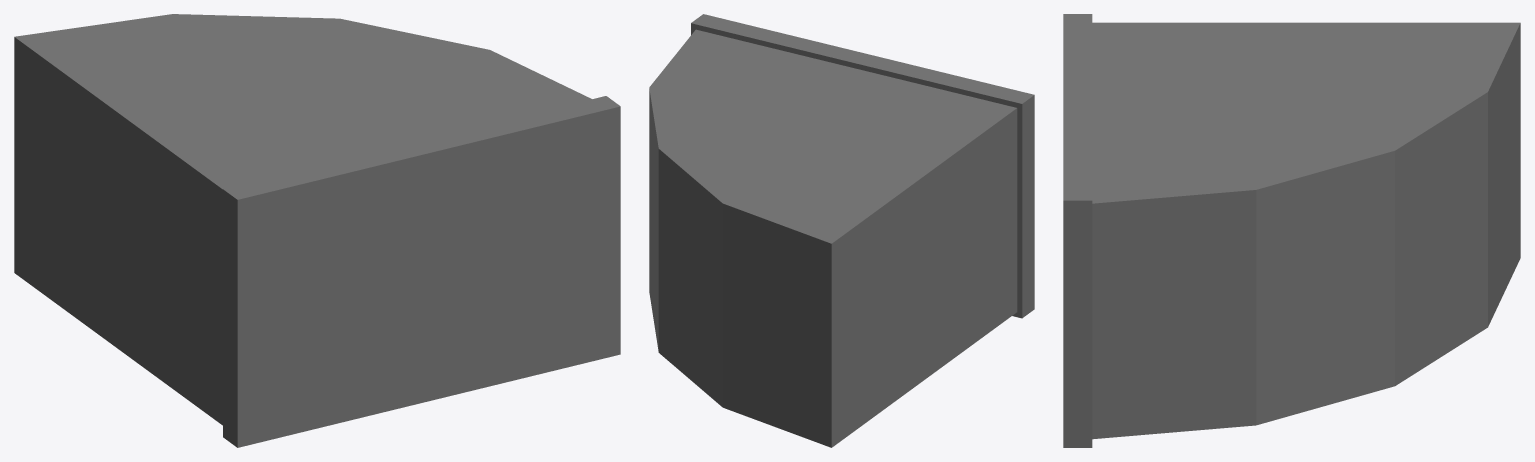
File: Duct_Left_Right.fbx
The picture shows the model from 3 angles, left to right: view 1: azimuth 30°, elevation 25°; view 2: azimuth 150°, elevation 25°; view 3: azimuth 270°, elevation 25°; orthographic projection. The views are drawn at different scales.
Visible parts, largest first — view 1: left right vent; view 2: left right vent; view 3: left right vent.
Part boxes in pixels (x1,y1,x2,y2): left right vent: (14,14,620,447); left right vent: (649,14,1034,447); left right vent: (1063,14,1520,447).
Bounding box in the file's own units: 106 × 65.84 × 110.
